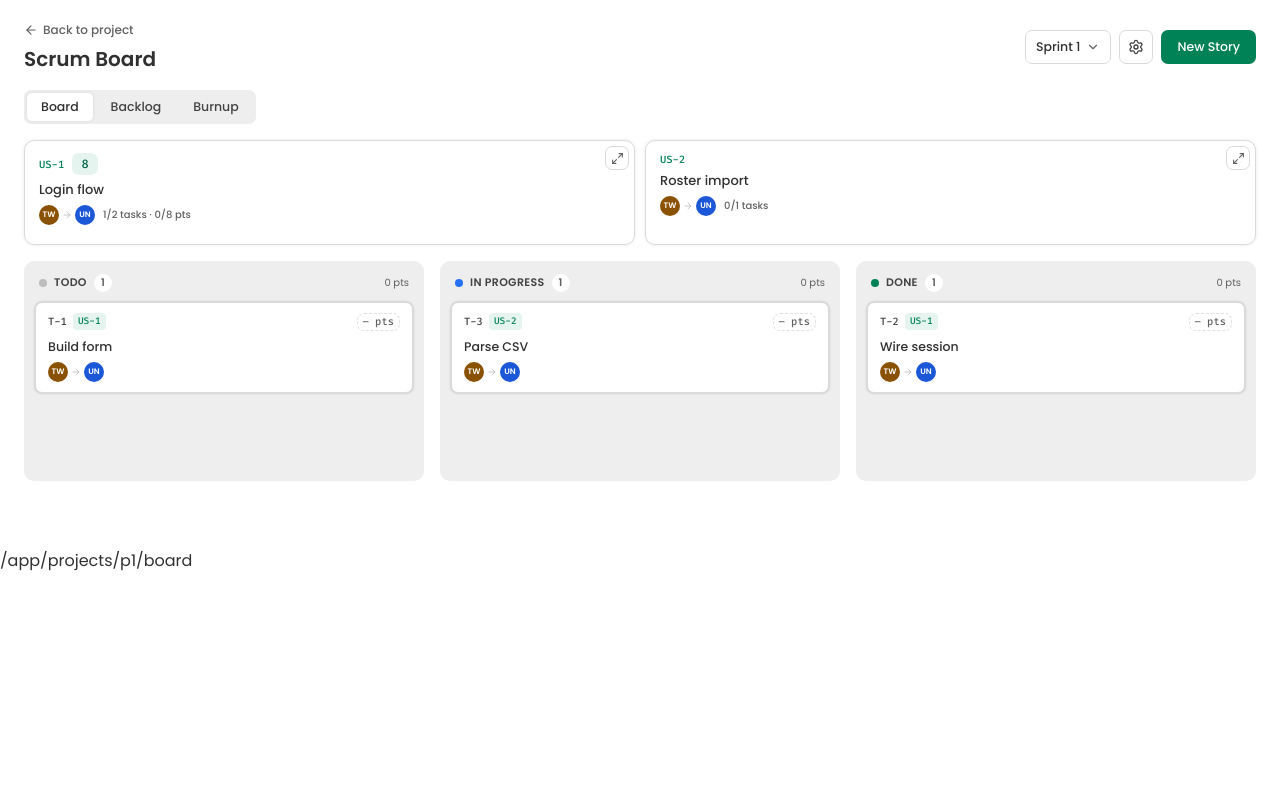
it: ScrumBoardPage story detail › opens a story from its card without opening any task
The width and height of the screenshot is (1280, 800).
Expected: the text "Login flow" is shown, [39,181,104,198]
Click the button named "Open US-1" at (617,158), box [605,146,629,170]
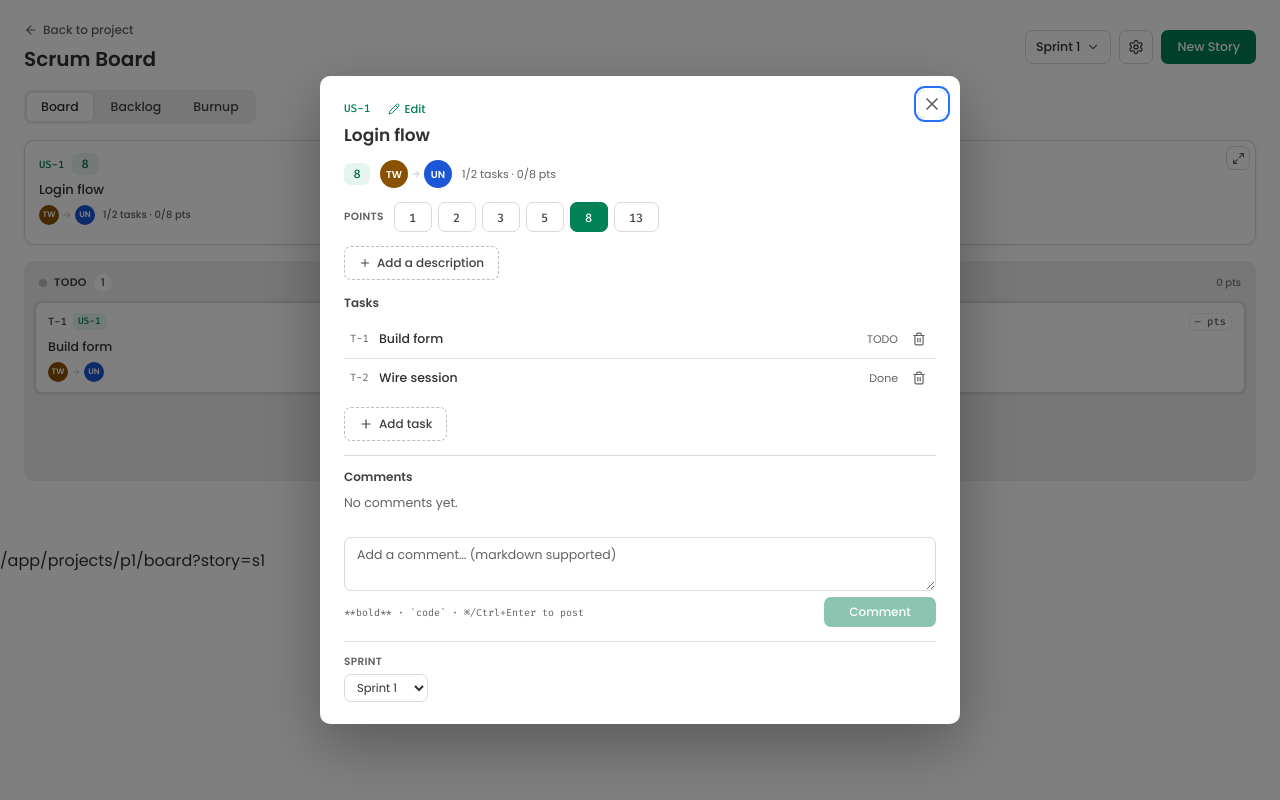
Expected: the text "TODO" is shown, [867,331,898,348]
Expected: the number of dialogs is 1, [320,76,960,724]
